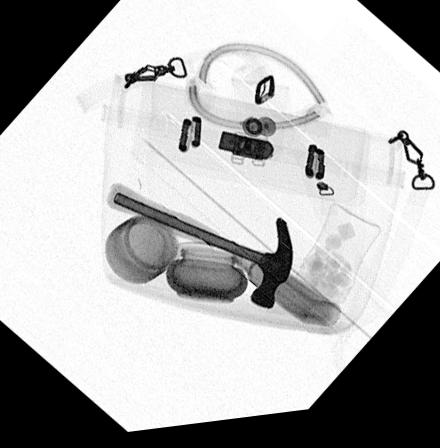Hammer: (104, 183, 293, 314)
